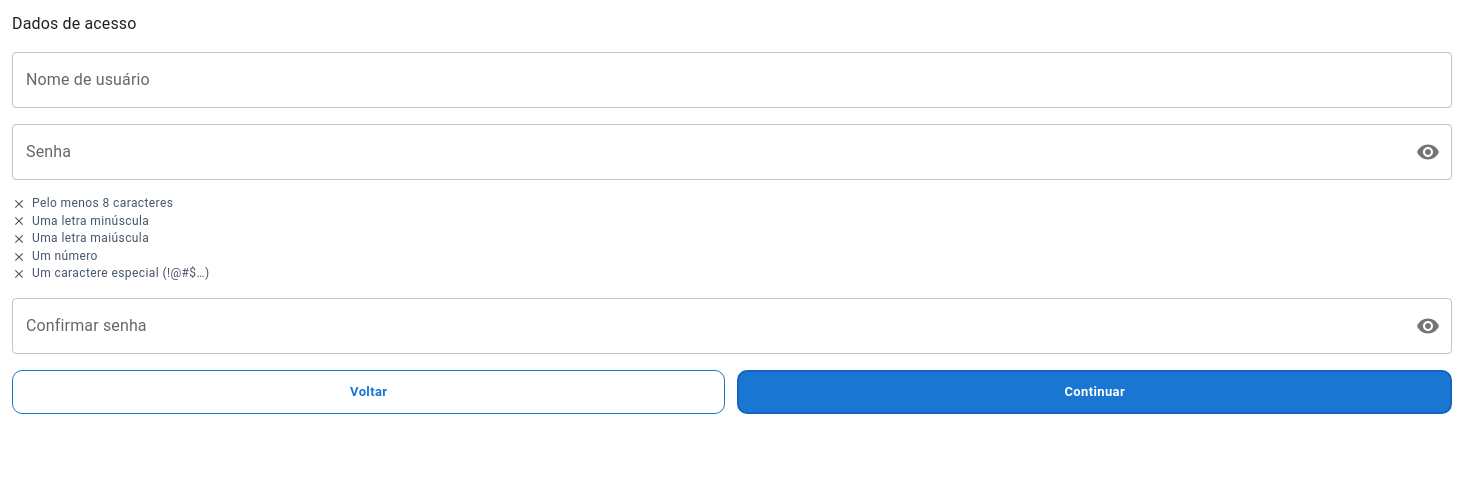
Test: AccessCredentialsStep component › warns while the confirmation password differs
Type "SenhaForte@123" into the password field labelled "Senha". click: coordinates (705, 152)
box: [12,124,1398,180]
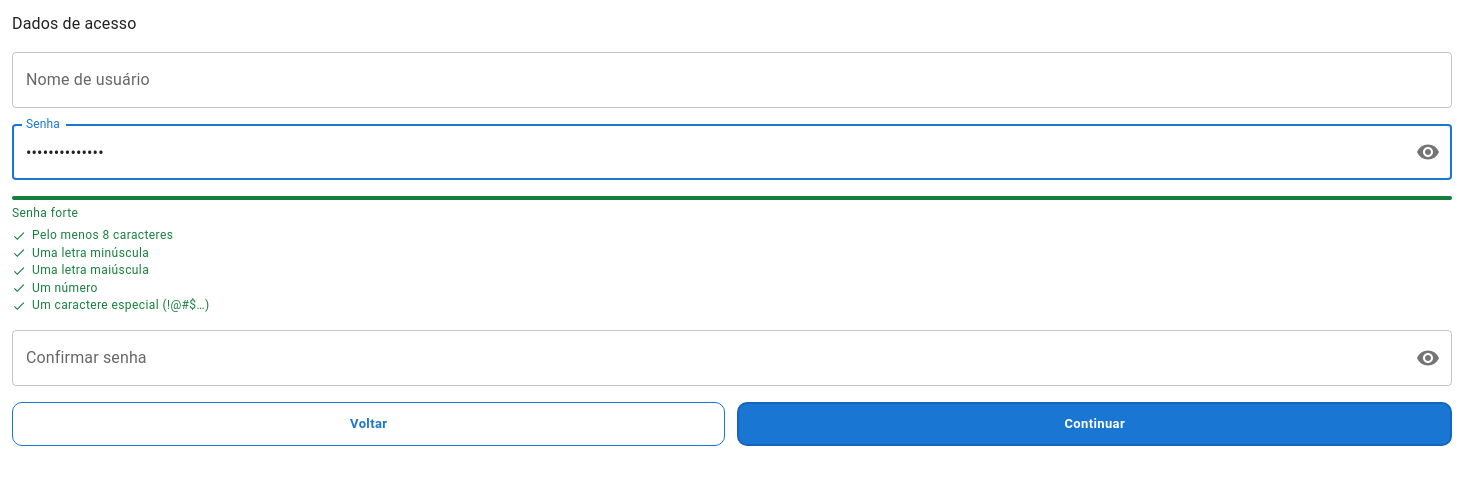
Type "SenhaDiferente@1" into the password field labelled "Confirmar senha". click: coordinates (705, 358)
box: [12,330,1398,386]
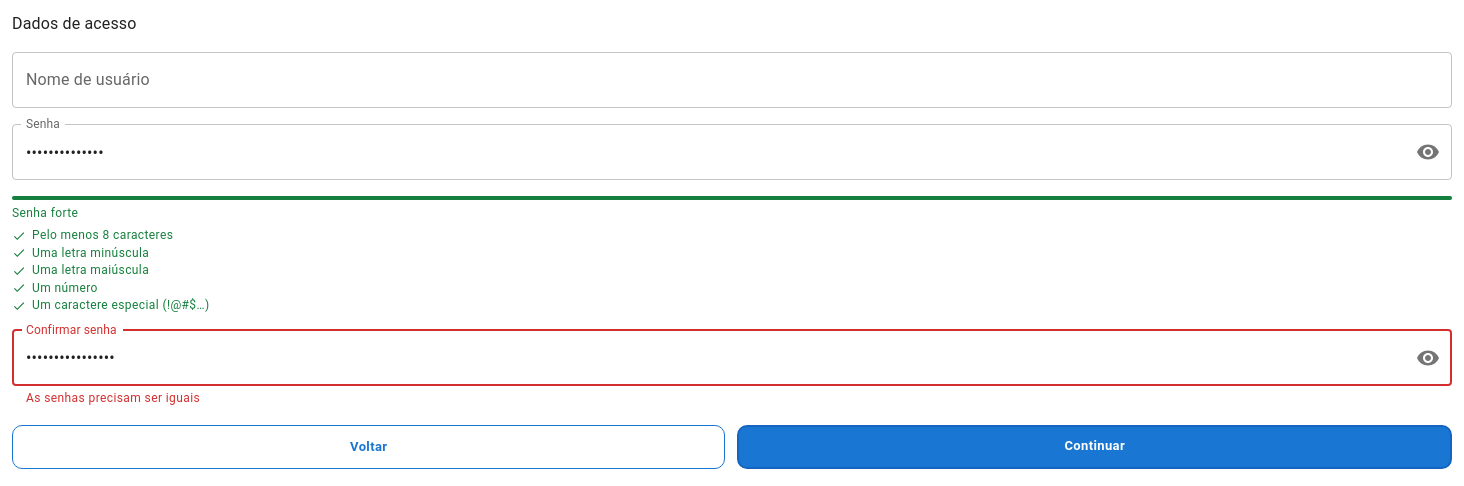
Check: the text "As senhas precisam ser iguais" is shown, box [26,391,200,405]
